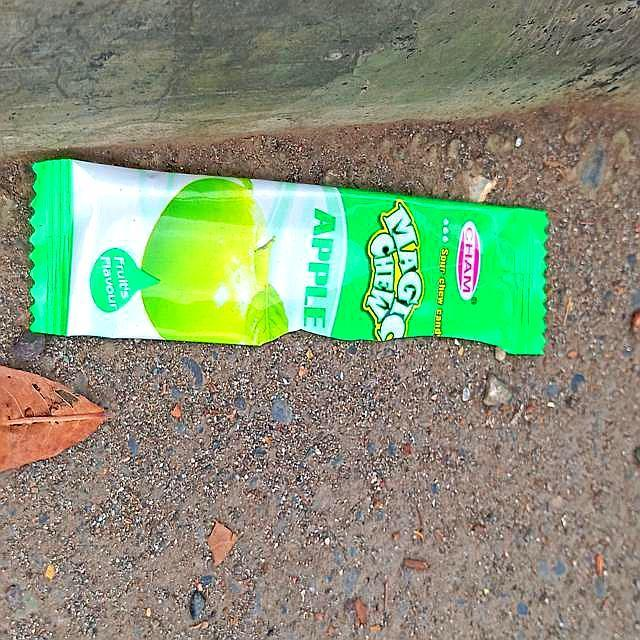Non-biodegradable: (25, 156, 553, 358)
